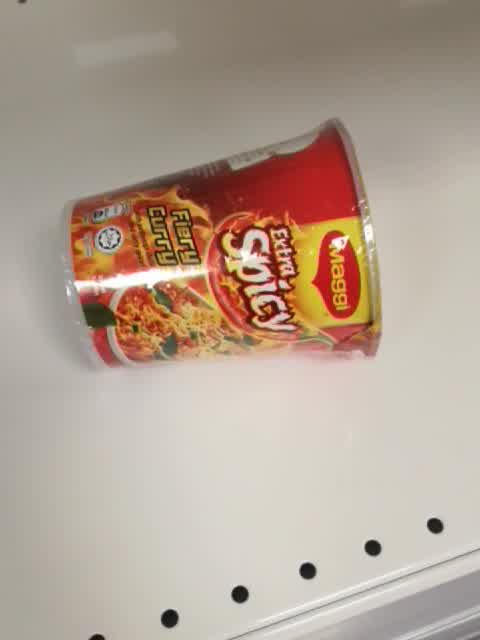maggi: (61, 113, 383, 378)
